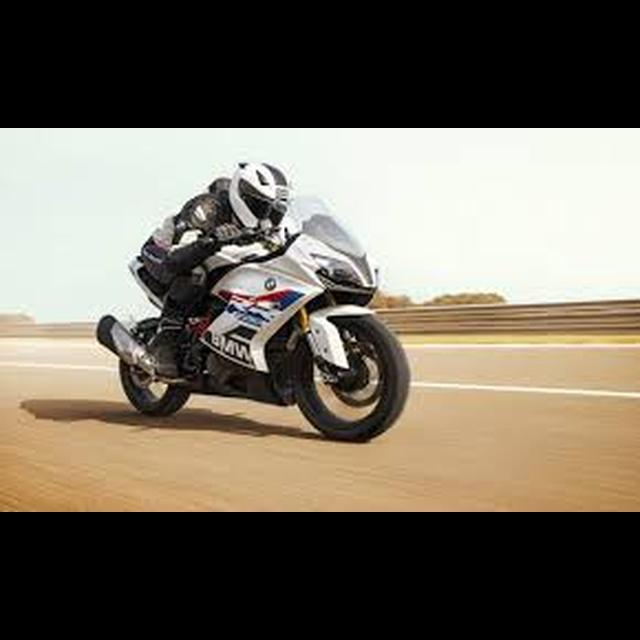motorcycle: (93, 193, 414, 447)
